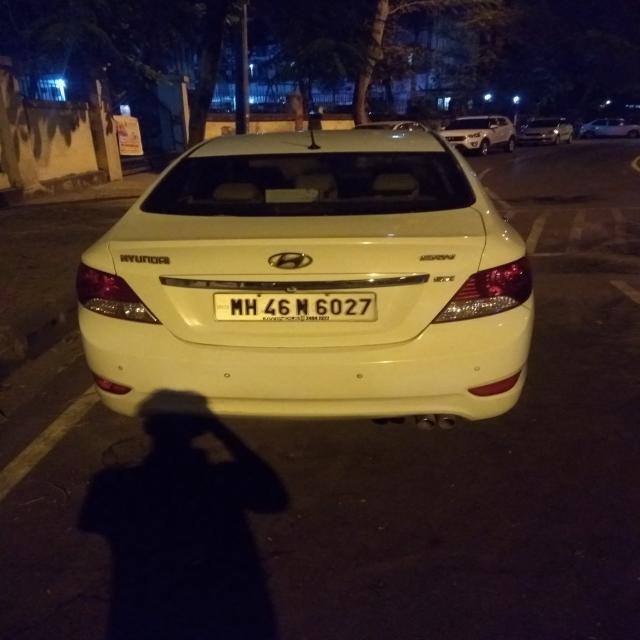Number-Plate: (214, 285, 378, 325)
